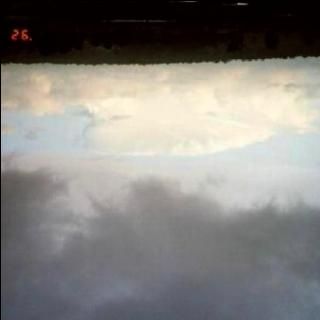Stratocumulus: (0, 52, 320, 320)
